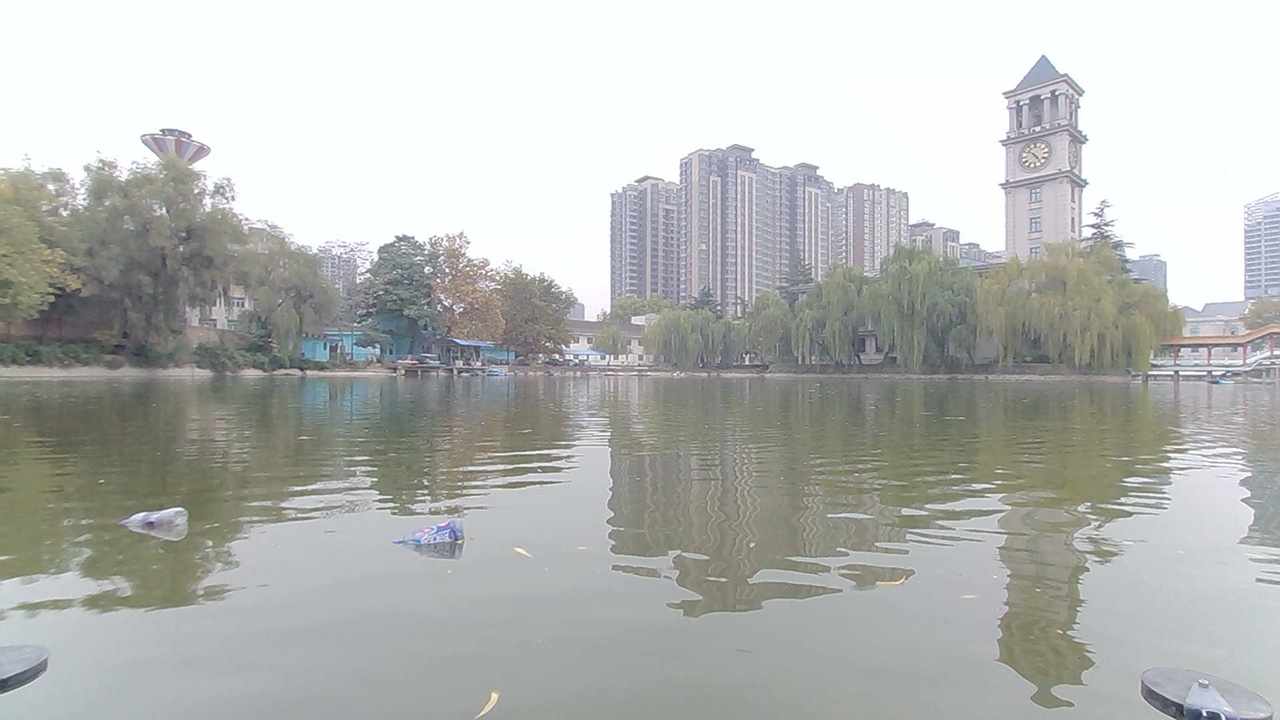bottle: (121, 486, 209, 552), (390, 505, 481, 563)
